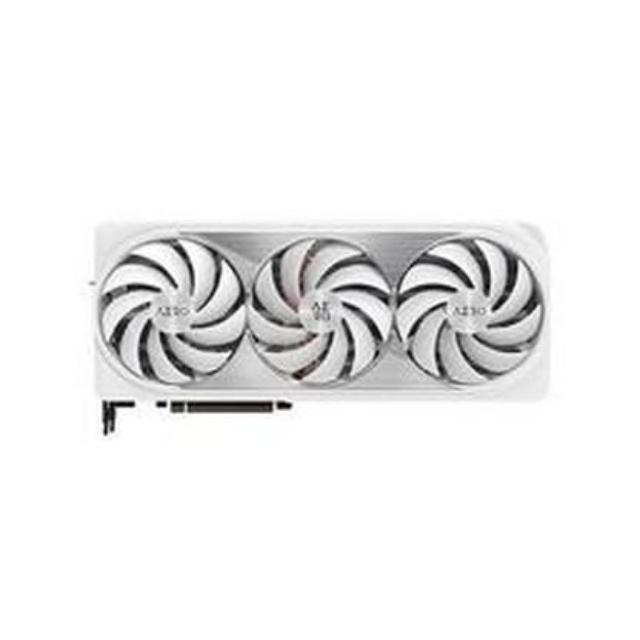GPU: (87, 226, 558, 412)
